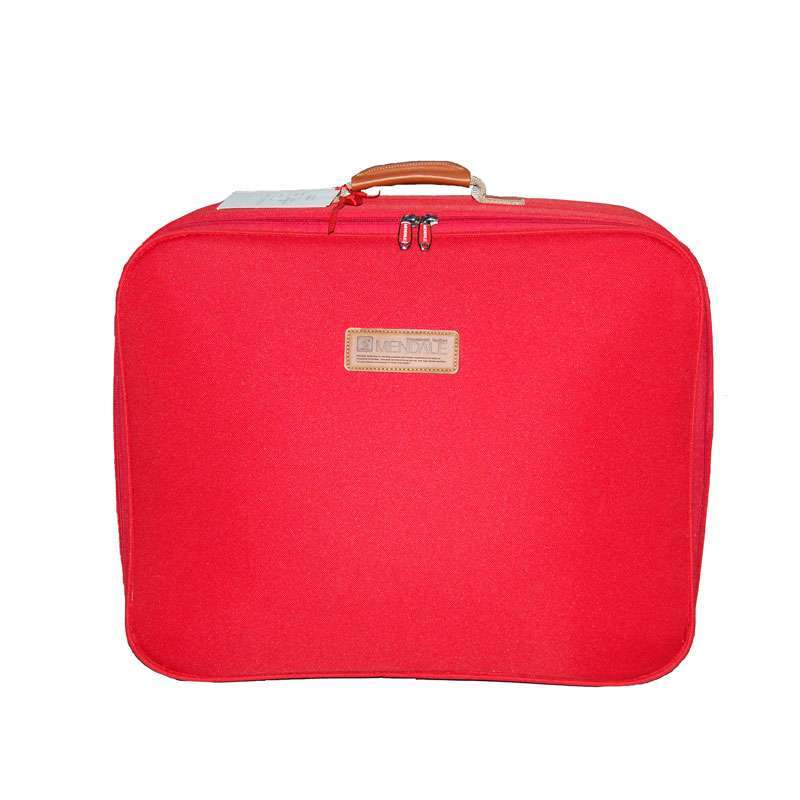luggage: (110, 160, 717, 688)
